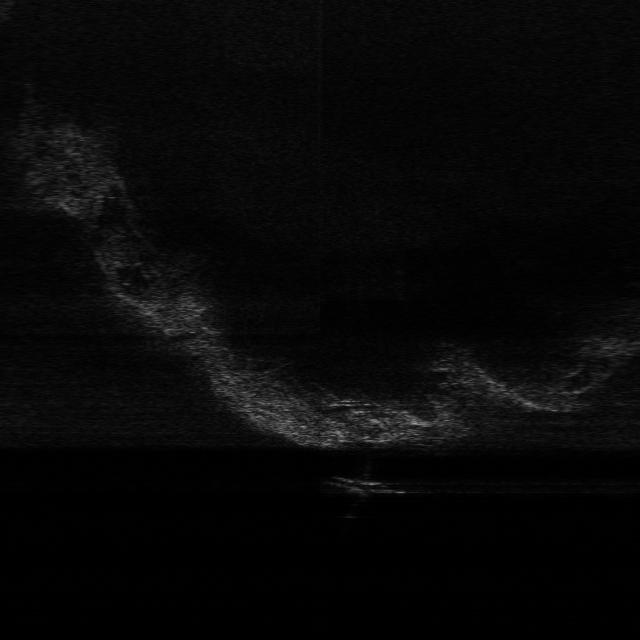plane: (323, 473, 406, 499)
